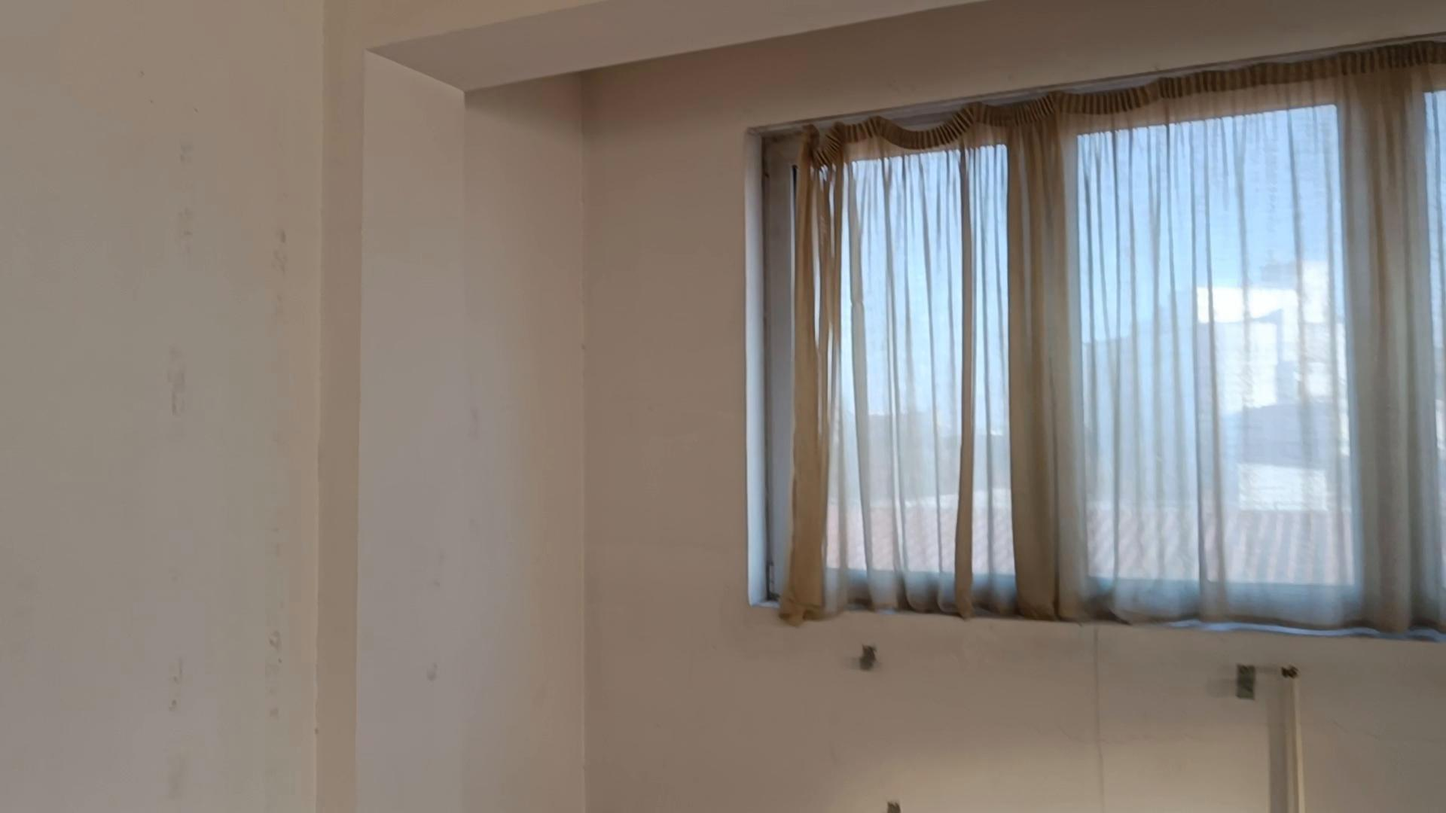wall: (5, 1, 1440, 812)
